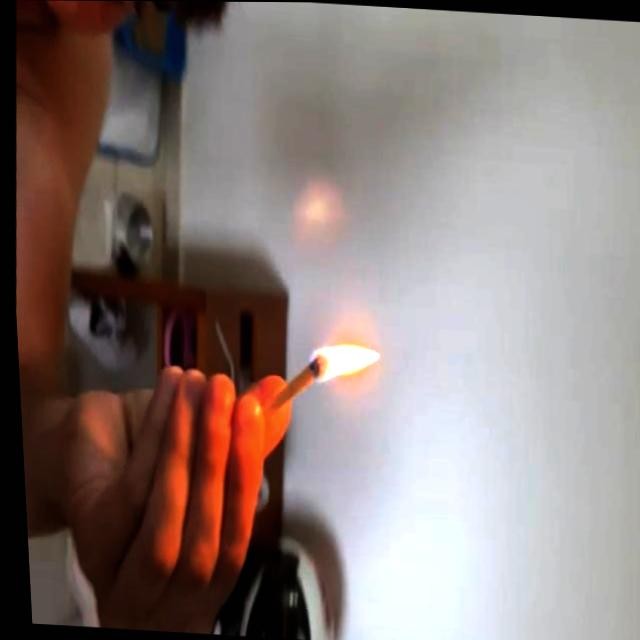helmet: (295, 334, 386, 389)
